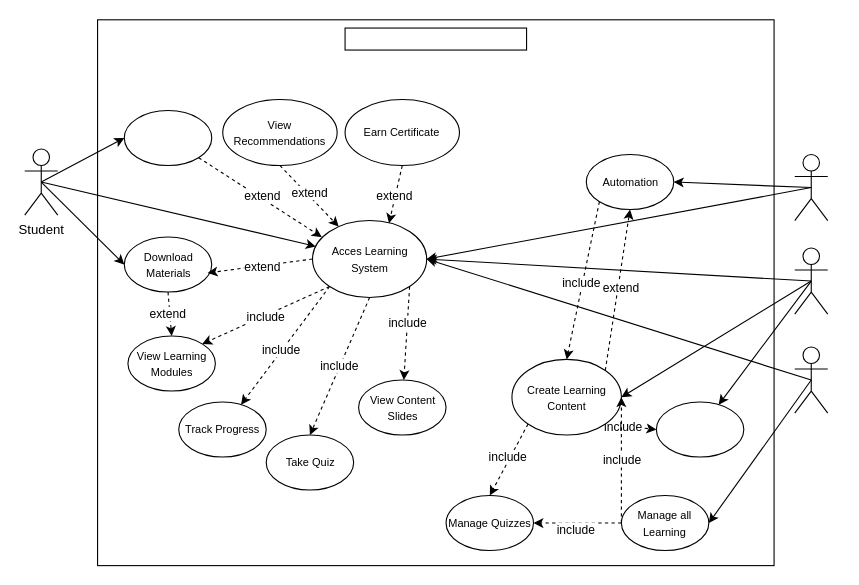
Image size: 859x585. Some labels were removed from this diagram. Here are the shapes that lost their labels. From the top down, the box of each, then its label:
(344, 27, 527, 50): Learning System
(123, 109, 212, 166): Bookmark Content
(794, 153, 828, 221): AI Mentor
(794, 247, 828, 314): Instructor
(794, 346, 828, 413): Admin
(655, 401, 744, 457): Grade Assessment
